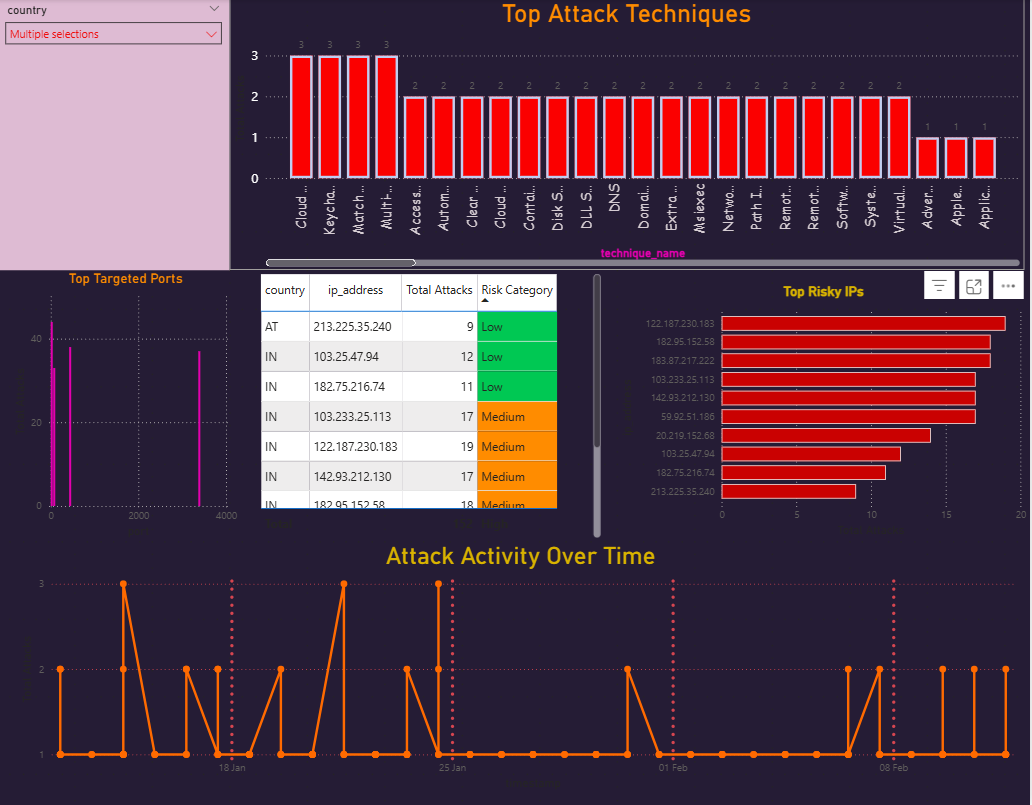

What the dashboard file says about the page in this screenshot:
{"tool":"powerbi","page":{"name":"Page 2SOC Technical View","canvas":[1280,1000],"ordinal":1},"visuals":[{"type":"slicer","fields":{"Values":["dim_ip.country"]},"box":[0,0,288,336],"z":0},{"type":"clusteredColumnChart","title":"Top Attack Techniques","fields":{"Category":["dim_attack.technique_name"],"Y":["fact_attacks.Total Attacks"]},"box":[288,0,984,336],"z":1000},{"type":"clusteredColumnChart","title":"Top Targeted Ports","fields":{"Category":["fact_attacks.port"],"Y":["fact_attacks.Total Attacks"]},"box":[16,336,288,336],"z":2000},{"type":"tableEx","fields":{"Values":["dim_ip.country","dim_ip.ip_address","fact_attacks.Total Attacks","dim_ip.Risk Category"]},"box":[320,336,432,336],"z":3000},{"type":"clusteredBarChart","title":"Top Risky IPs","fields":{"Category":["dim_ip.ip_address"],"Y":["fact_attacks.Total Attacks"]},"box":[768,352,512,320],"z":4000},{"type":"lineChart","title":"Attack Activity Over Time","fields":{"Category":["fact_attacks.timestamp"],"Y":["fact_attacks.Total Attacks"]},"box":[24,672,1248,312],"z":5000}]}

Visuals, with their boxes in screenshot pixels (x1, y1, x2, y2), scaled from the page's 1280x1000 canvas onto the 1032x805 screenshot:
slicer - dim_ip.country: Rect(0, 0, 232, 270)
"Top Attack Techniques" clusteredColumnChart: Rect(232, 0, 1026, 270)
"Top Targeted Ports" clusteredColumnChart: Rect(13, 270, 245, 541)
tableEx - dim_ip.country x dim_ip.ip_address: Rect(258, 270, 606, 541)
"Top Risky IPs" clusteredBarChart: Rect(619, 283, 1031, 541)
"Attack Activity Over Time" lineChart: Rect(19, 541, 1026, 792)
